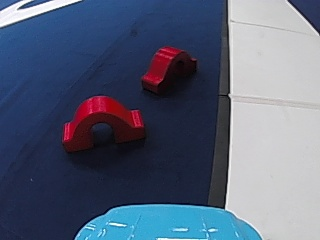bridge: (55, 91, 148, 151), (139, 45, 195, 95)
